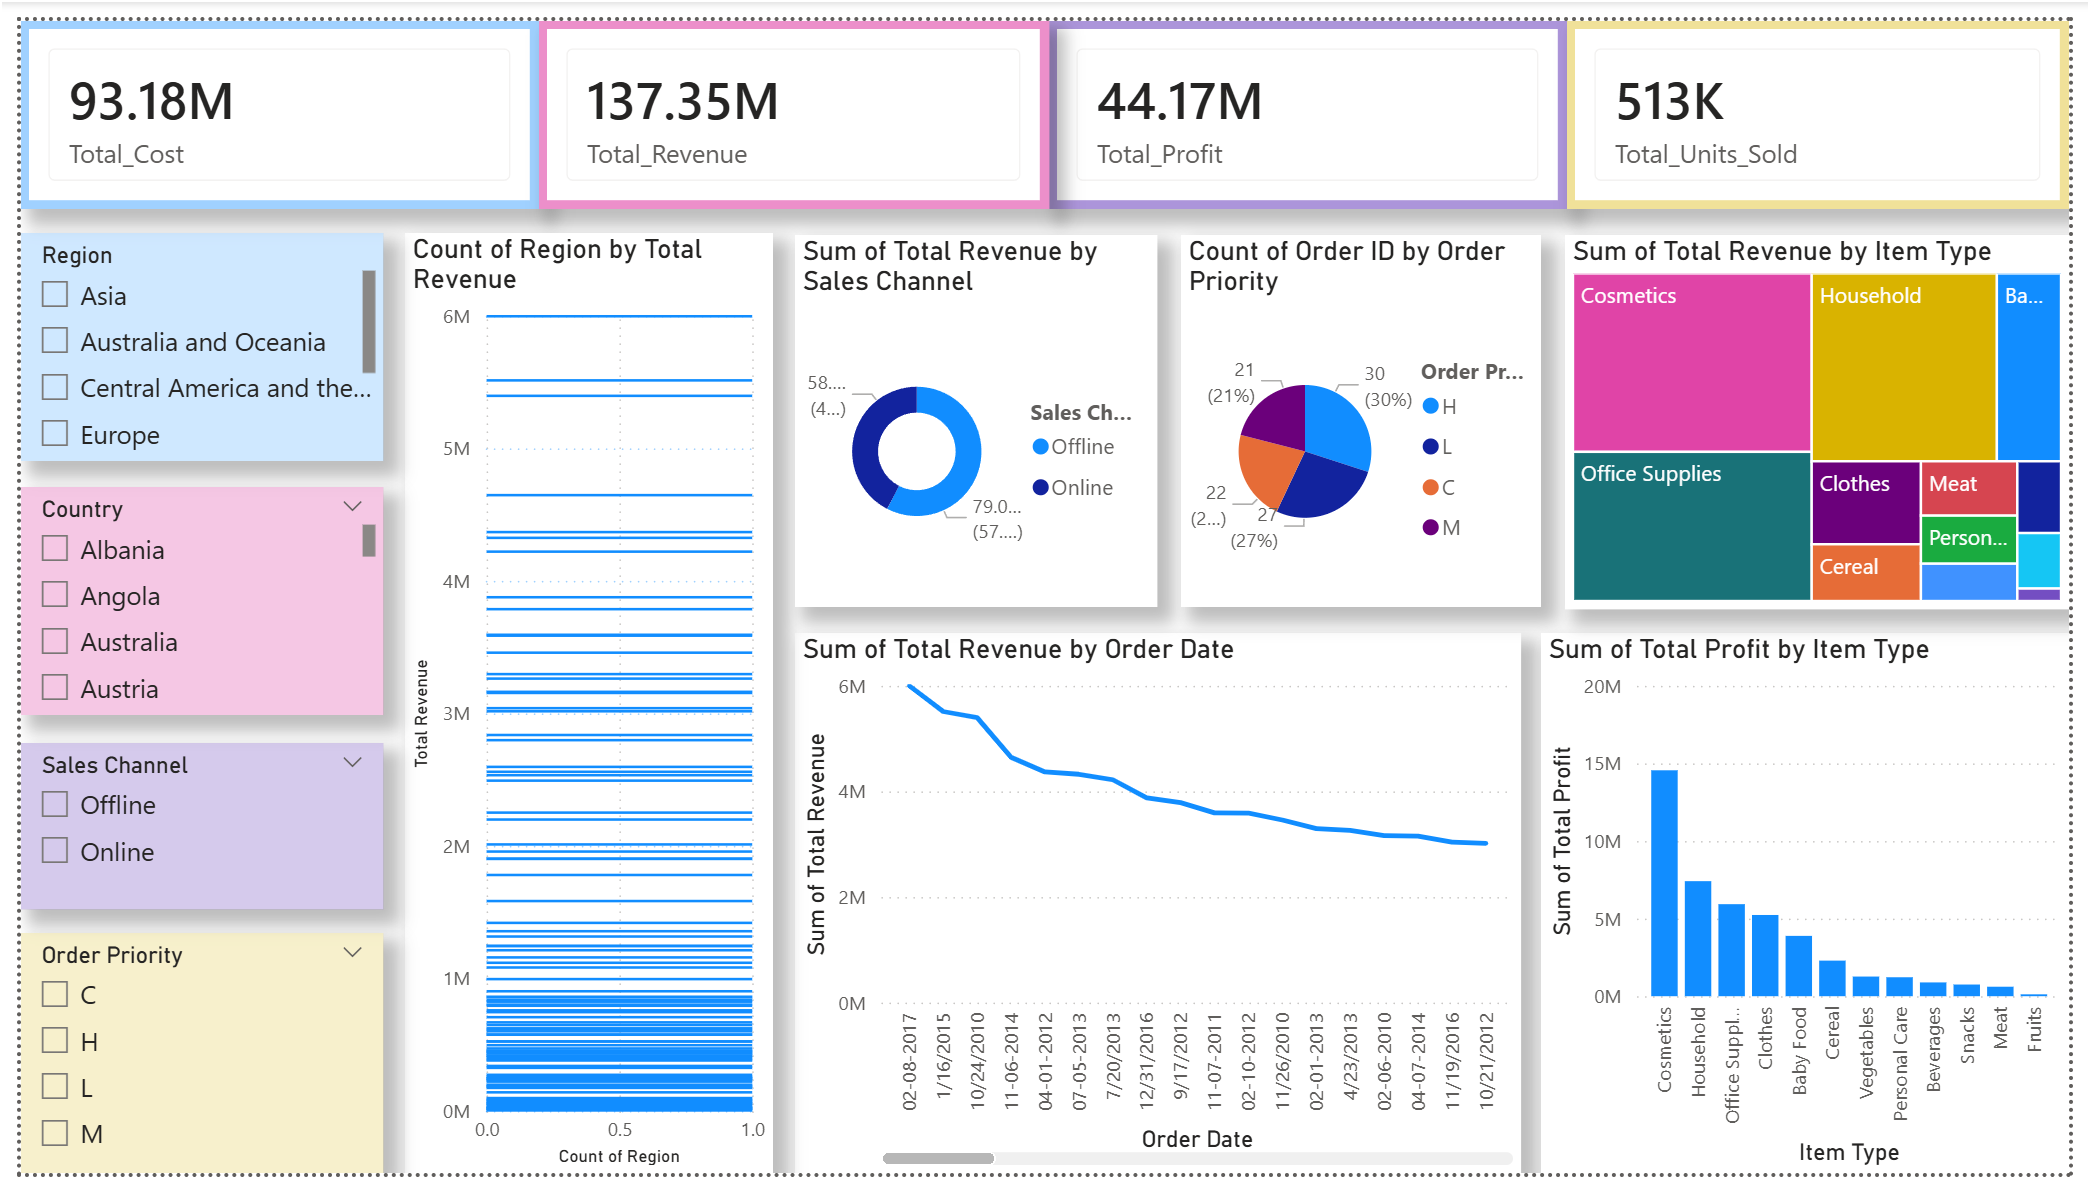

The page's visual inventory and layout, read from the dashboard file:
{"tool":"powerbi","page":{"name":"Page 1","canvas":[1280,720],"ordinal":0},"visuals":[{"type":"cardVisual","fields":{"Data":["sales.Total_Cost"]},"box":[0,0,323.8,117.5],"z":0},{"type":"cardVisual","fields":{"Data":["sales.Total_Profit"]},"box":[642.5,0,323.8,117.5],"z":1000},{"type":"cardVisual","fields":{"Data":["sales.Total_Revenue"]},"box":[323.8,0,318.8,117.5],"z":2000},{"type":"cardVisual","fields":{"Data":["sales.Total_Units_Sold"]},"box":[966.2,0,313.8,117.5],"z":3000},{"type":"clusteredBarChart","fields":{"Y":["CountNonNull(sales.Region)"],"Category":["sales.Total Revenue"]},"box":[240,132.5,230,587.5],"z":4000},{"type":"donutChart","fields":{"Category":["sales.Sales Channel"],"Y":["Sum(sales.Total Revenue)"]},"box":[483.8,133.8,226.2,232.5],"z":5000},{"type":"lineChart","fields":{"Category":["sales.Order Date"],"Y":["Sum(sales.Total Revenue)"]},"box":[483.8,382.5,453.8,337.5],"z":6000},{"type":"pieChart","fields":{"Category":["sales.Order Priority"],"Y":["CountNonNull(sales.Order ID)"]},"box":[725,133.8,225,232.5],"z":7000},{"type":"columnChart","fields":{"Category":["sales.Item Type"],"Y":["Sum(sales.Total Profit)"]},"box":[950,382.5,330,337.5],"z":8000},{"type":"slicer","fields":{"Values":["sales.Region"]},"box":[0,132.5,226.2,142.5],"z":9000},{"type":"slicer","fields":{"Values":["sales.Sales Channel"]},"box":[0,451.2,226.2,103.8],"z":10000},{"type":"slicer","fields":{"Values":["sales.Country"]},"box":[0,291.2,226.2,142.5],"z":11000},{"type":"slicer","fields":{"Values":["sales.Order Priority"]},"box":[0,570,226.2,150],"z":12000},{"type":"treemap","fields":{"Group":["sales.Item Type"],"Values":["Sum(sales.Total Revenue)"]},"box":[965,133.8,315,233.8],"z":13000}]}

Visuals, with their boxes in screenshot pixels (x1, y1, x2, y2), scaled from the page's 1280x720 canvas onto the 2090x1200 screenshot:
cardVisual - sales.Total_Cost: box(0, 0, 529, 196)
cardVisual - sales.Total_Profit: box(1049, 0, 1578, 196)
cardVisual - sales.Total_Revenue: box(529, 0, 1049, 196)
cardVisual - sales.Total_Units_Sold: box(1578, 0, 2089, 196)
clusteredBarChart - CountNonNull(sales.Region) x sales.Total Revenue: box(392, 221, 767, 1199)
donutChart - sales.Sales Channel x Sum(sales.Total Revenue): box(790, 223, 1159, 610)
lineChart - sales.Order Date x Sum(sales.Total Revenue): box(790, 638, 1531, 1199)
pieChart - sales.Order Priority x CountNonNull(sales.Order ID): box(1184, 223, 1551, 610)
columnChart - sales.Item Type x Sum(sales.Total Profit): box(1551, 638, 2089, 1199)
slicer - sales.Region: box(0, 221, 369, 458)
slicer - sales.Sales Channel: box(0, 752, 369, 925)
slicer - sales.Country: box(0, 485, 369, 723)
slicer - sales.Order Priority: box(0, 950, 369, 1199)
treemap - sales.Item Type x Sum(sales.Total Revenue): box(1576, 223, 2089, 613)
